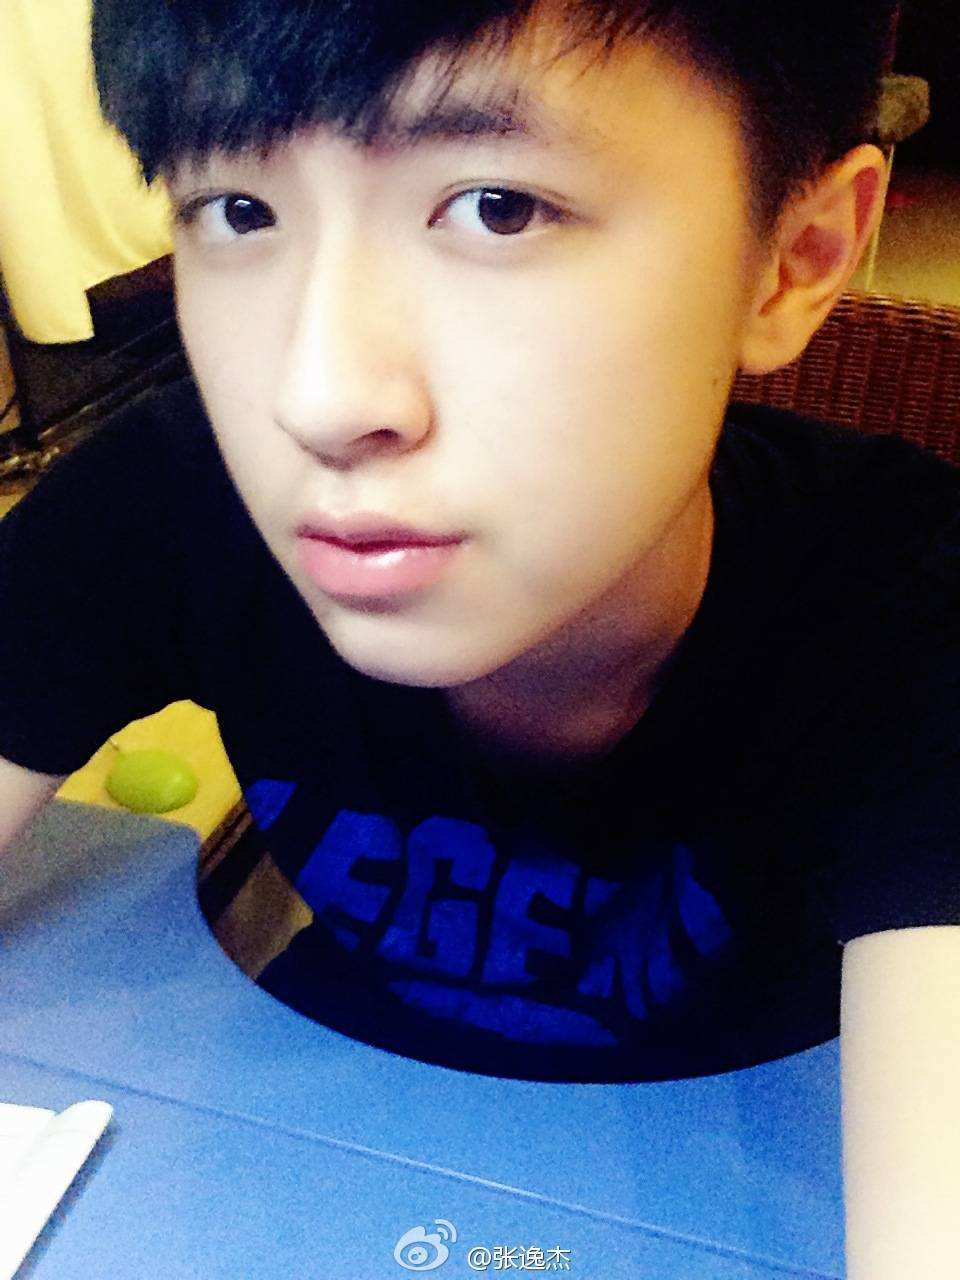person: (170, 48, 876, 1084)
